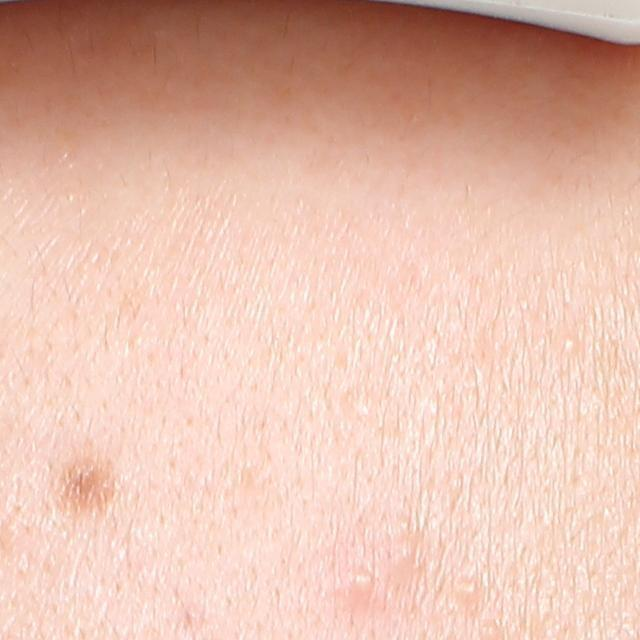comedo: (453, 577, 486, 607), (560, 334, 582, 359)
